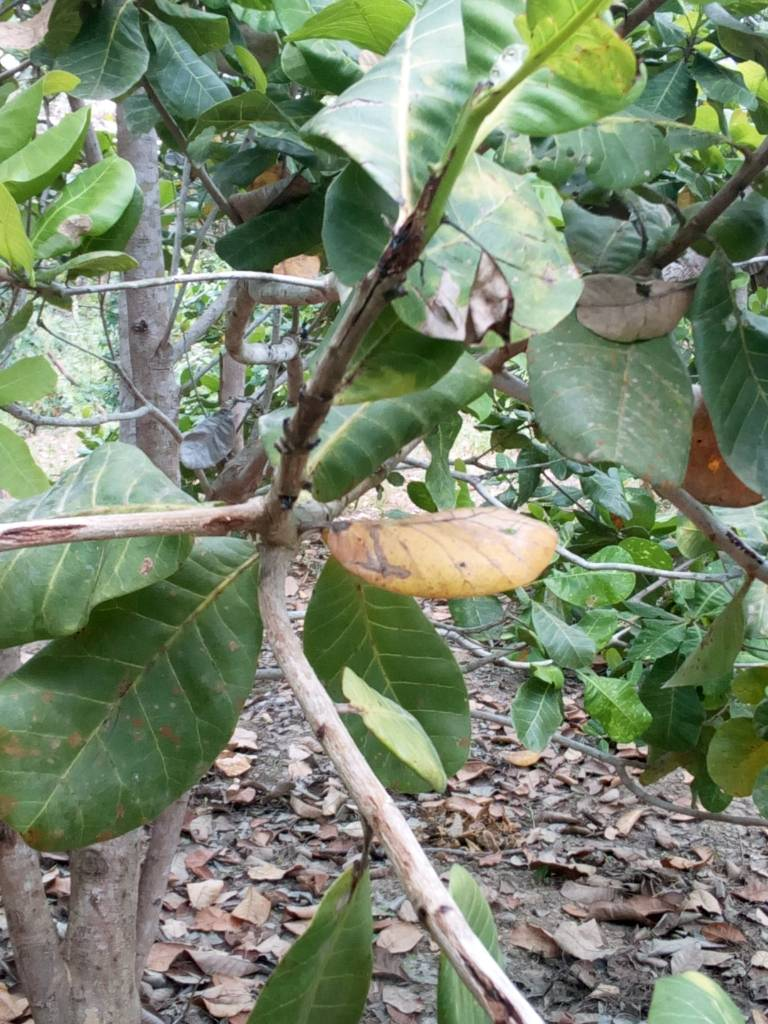Rouille: (1, 555, 261, 857), (515, 330, 730, 489)
